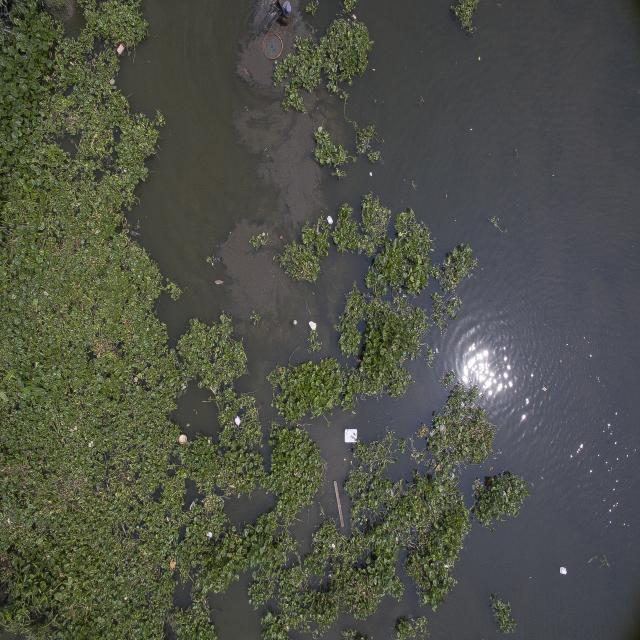plastic: (550, 556, 582, 597), (341, 421, 368, 457), (324, 206, 340, 231), (229, 412, 248, 432), (177, 427, 192, 452), (304, 319, 322, 336)
